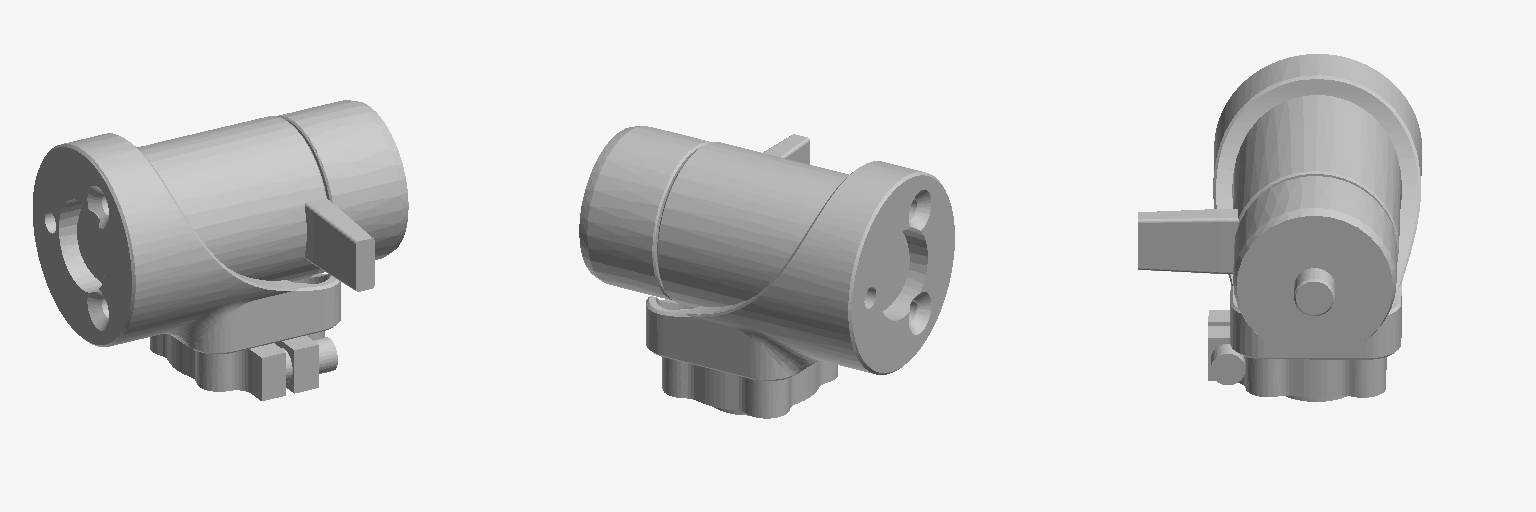
The model's file is bracket_right_rear.obj.
The picture shows the model from 3 angles: view 1: azimuth 30°, elevation 25°; view 2: azimuth 150°, elevation 25°; view 3: azimuth 270°, elevation 25°; orthographic projection.
Visible parts, largest first — view 1: Body1.115_Body1.045, Body1.121_Body1.049, Body1.116_Body1.046; view 2: Body1.121_Body1.049, Body1.115_Body1.045, Body1.116_Body1.046; view 3: Body1.115_Body1.045, Body1.121_Body1.049, Body1.116_Body1.046.
Boxes of the visible parts, <box> form: Body1.115_Body1.045: <box>77,100,408,291</box>; Body1.121_Body1.049: <box>33,133,340,353</box>; Body1.116_Body1.046: <box>150,331,337,400</box>; Body1.121_Body1.049: <box>646,161,954,380</box>; Body1.115_Body1.045: <box>579,126,909,310</box>; Body1.116_Body1.046: <box>662,357,837,418</box>; Body1.115_Body1.045: <box>1138,95,1400,357</box>; Body1.121_Body1.049: <box>1213,54,1421,359</box>; Body1.116_Body1.046: <box>1208,310,1386,401</box>.
Bounding box in the file's own units: 0.0525 × 0.0412 × 0.0416.